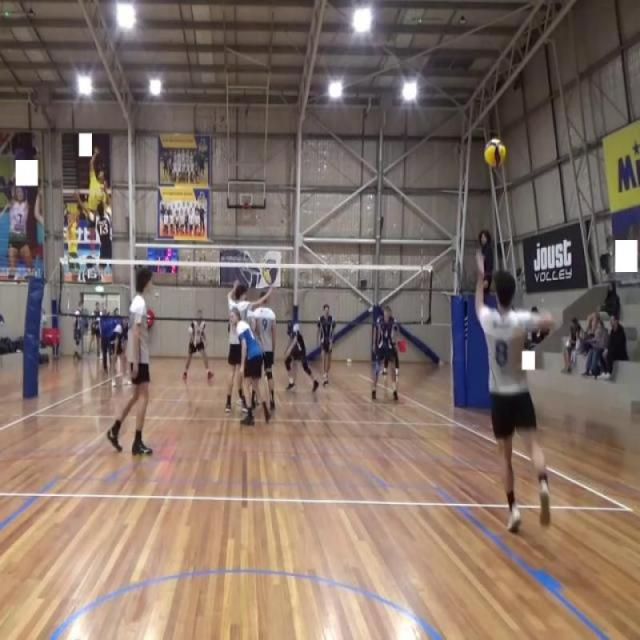volleyball: (482, 137, 506, 174)
